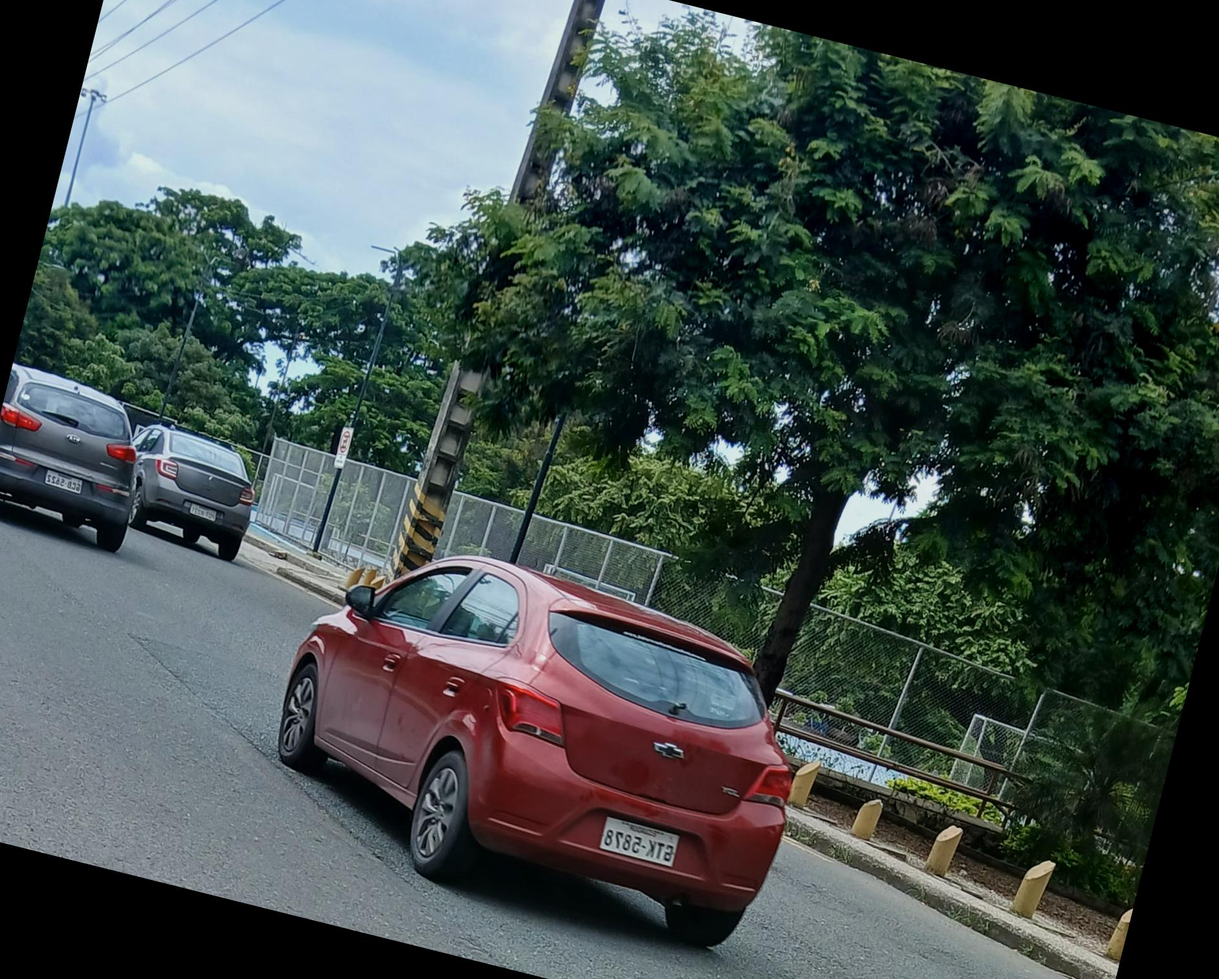license_plate: (598, 815, 681, 866), (44, 470, 87, 494), (187, 501, 221, 522), (214, 511, 225, 521)
